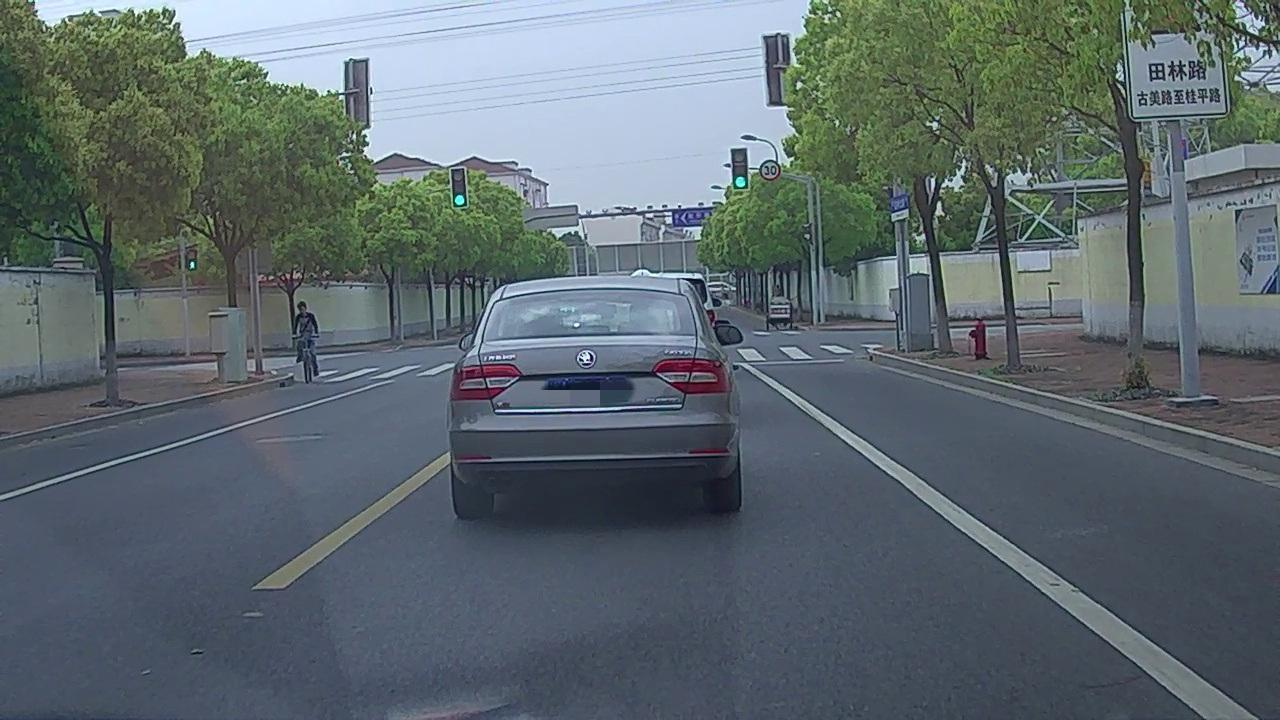traffic_light: (732, 150, 749, 190), (451, 169, 467, 208)
